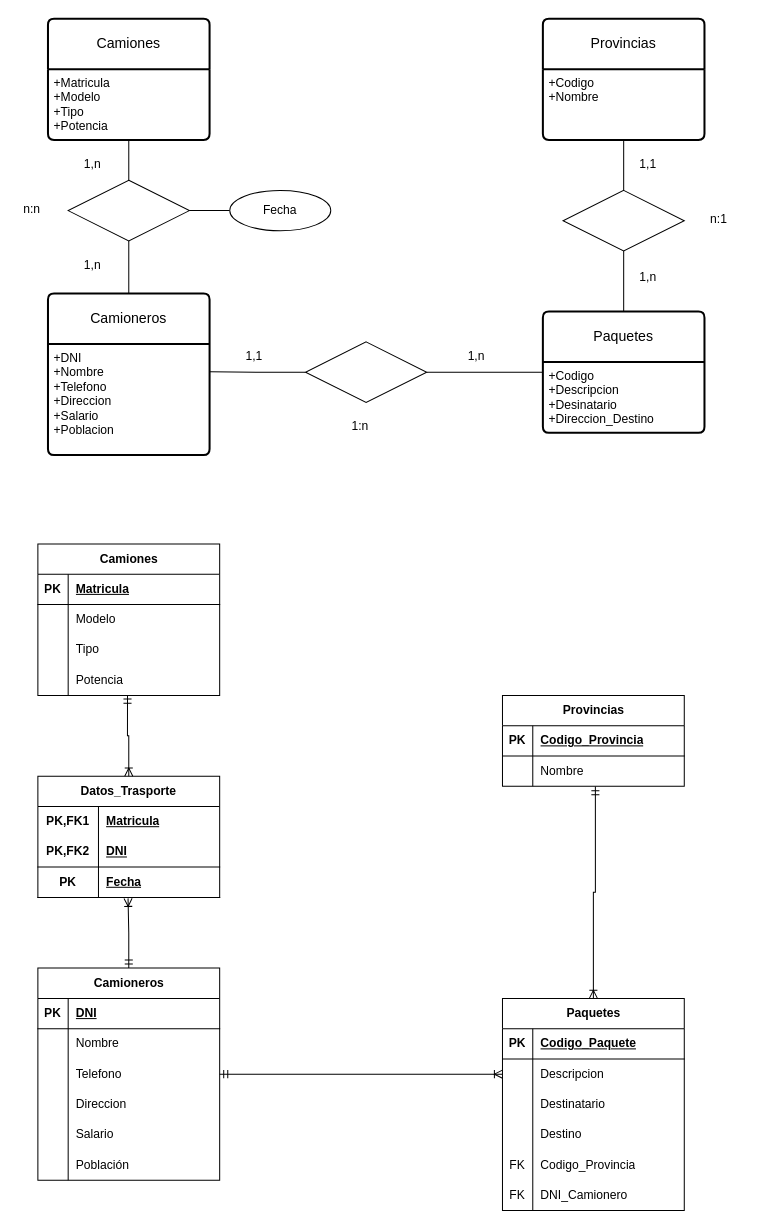
The diagram is 762 pixels wide and 1228 high, and some of its shapes have lost their labels. Each missing label, with the centre of its shape:
Conduce: point (128, 210)
Llega: point (623, 220)
Transporta: point (366, 371)
